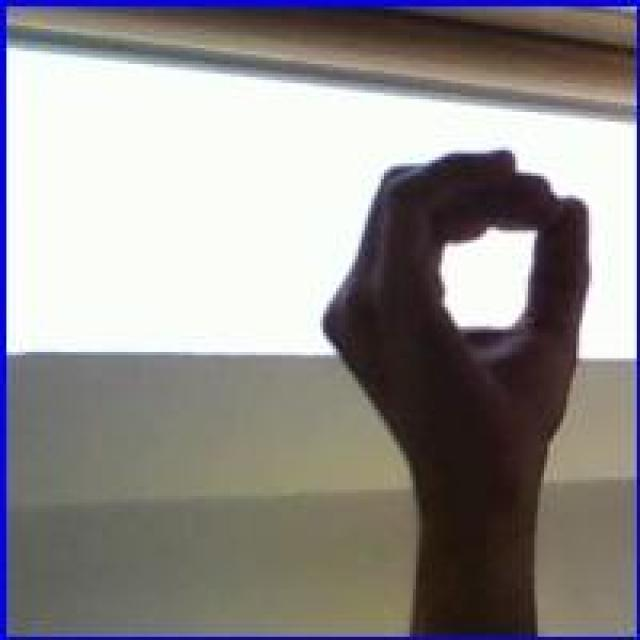O: (315, 146, 594, 475)
